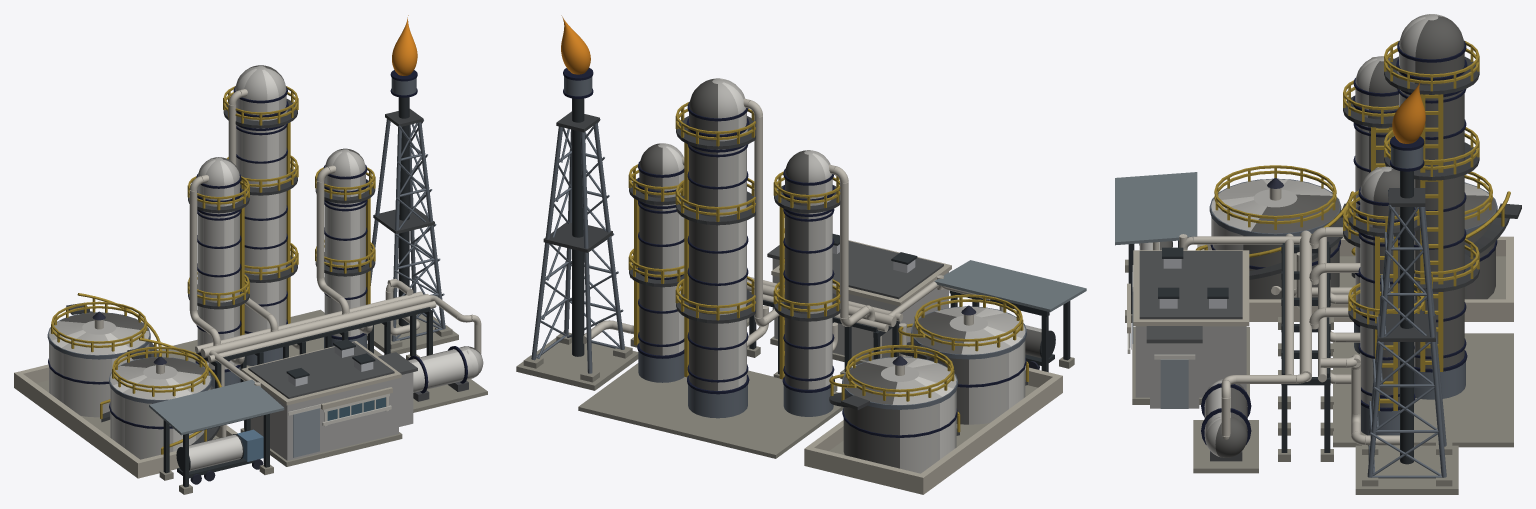
The model's file is petro_refinery_lvl3.glb.
3 renders of one model, left to right at view 1: azimuth 30°, elevation 25°; view 2: azimuth 150°, elevation 25°; view 3: azimuth 270°, elevation 25°, orthographic. The views are drawn at different scales.
Visible parts, largest first — view 1: petro_refinery_v2, petro_refinery_v2_Glass; view 2: petro_refinery_v2; view 3: petro_refinery_v2.
Part boxes in pixels (bbox=[...]): petro_refinery_v2: bbox=[14, 15, 487, 494]; petro_refinery_v2_Glass: bbox=[327, 397, 385, 420]; petro_refinery_v2: bbox=[516, 15, 1086, 494]; petro_refinery_v2: bbox=[1115, 14, 1521, 494].
Bounding box in the file's own units: 1 × 0.7811 × 0.7192.
